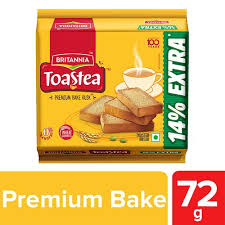Britania-toast-med: (40, 11, 188, 158)
